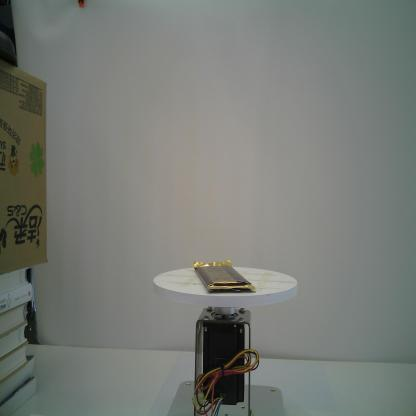Chocolate: (193, 258, 258, 294)
